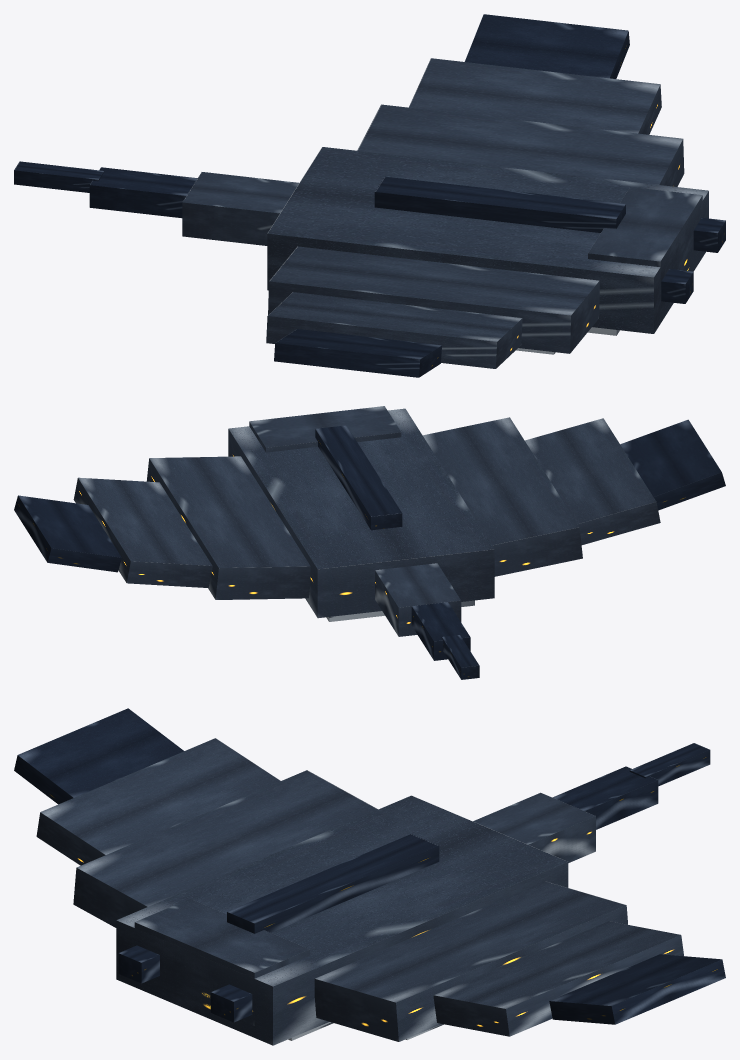
The model's file is manta.glb.
3 renders of one model, top to bottom at view 1: azimuth 30°, elevation 25°; view 2: azimuth 150°, elevation 25°; view 3: azimuth 270°, elevation 25°, orthographic. The views are drawn at different scales.
Parts seen in each view (by area): view 1: Body, WingL_Inner, WingR_Inner, WingR_Mid, WingL_Mid, DorsalRidge, WingR_Tip, Head, TailBase, WingL_Tip, TailMid, TailWhip (+2 smaller); view 2: Body, WingR_Inner, WingL_Inner, WingL_Mid, WingR_Mid, WingL_Tip, WingR_Tip, DorsalRidge, Head, TailBase, TailMid, TailWhip; view 3: Body, WingR_Inner, WingL_Inner, WingL_Mid, WingR_Mid, Head, WingL_Tip, DorsalRidge, WingR_Tip, TailBase, TailMid, TailWhip (+2 smaller).
Part boxes in pixels (<box>): Body: <box>267,147,708,333</box>; WingL_Inner: <box>268,246,599,353</box>; WingR_Inner: <box>357,104,684,186</box>; WingR_Mid: <box>408,58,661,134</box>; WingL_Mid: <box>266,292,522,368</box>; DorsalRidge: <box>374,176,625,232</box>; WingR_Tip: <box>464,14,629,78</box>; Head: <box>588,187,702,311</box>; TailBase: <box>182,172,298,245</box>; WingL_Tip: <box>274,329,441,377</box>; TailMid: <box>89,167,197,218</box>; TailWhip: <box>14,161,104,192</box>; Body: <box>228,408,494,618</box>; WingR_Inner: <box>146,456,310,599</box>; WingL_Inner: <box>422,417,582,576</box>; WingL_Mid: <box>525,418,660,544</box>; WingR_Mid: <box>73,477,212,587</box>; WingL_Tip: <box>620,419,725,510</box>; WingR_Tip: <box>14,495,121,572</box>; DorsalRidge: <box>315,425,402,530</box>; Head: <box>249,406,401,452</box>; TailBase: <box>375,563,461,636</box>; TailMid: <box>411,602,470,660</box>; TailWhip: <box>441,635,479,679</box>; Body: <box>116,795,568,1045</box>; WingR_Inner: <box>314,881,627,1041</box>; WingL_Inner: <box>73,770,377,927</box>; WingL_Mid: <box>36,738,280,865</box>; WingR_Mid: <box>433,921,683,1036</box>; Head: <box>134,899,309,1025</box>; WingL_Tip: <box>14,708,184,804</box>; DorsalRidge: <box>227,834,439,933</box>; WingR_Tip: <box>549,954,725,1024</box>; TailBase: <box>473,792,595,862</box>; TailMid: <box>552,766,658,829</box>; TailWhip: <box>629,743,710,786</box>.
Size of the model in its own units: 109 by 16.25 by 109.
Materials: 19 (17 with a texture image).
